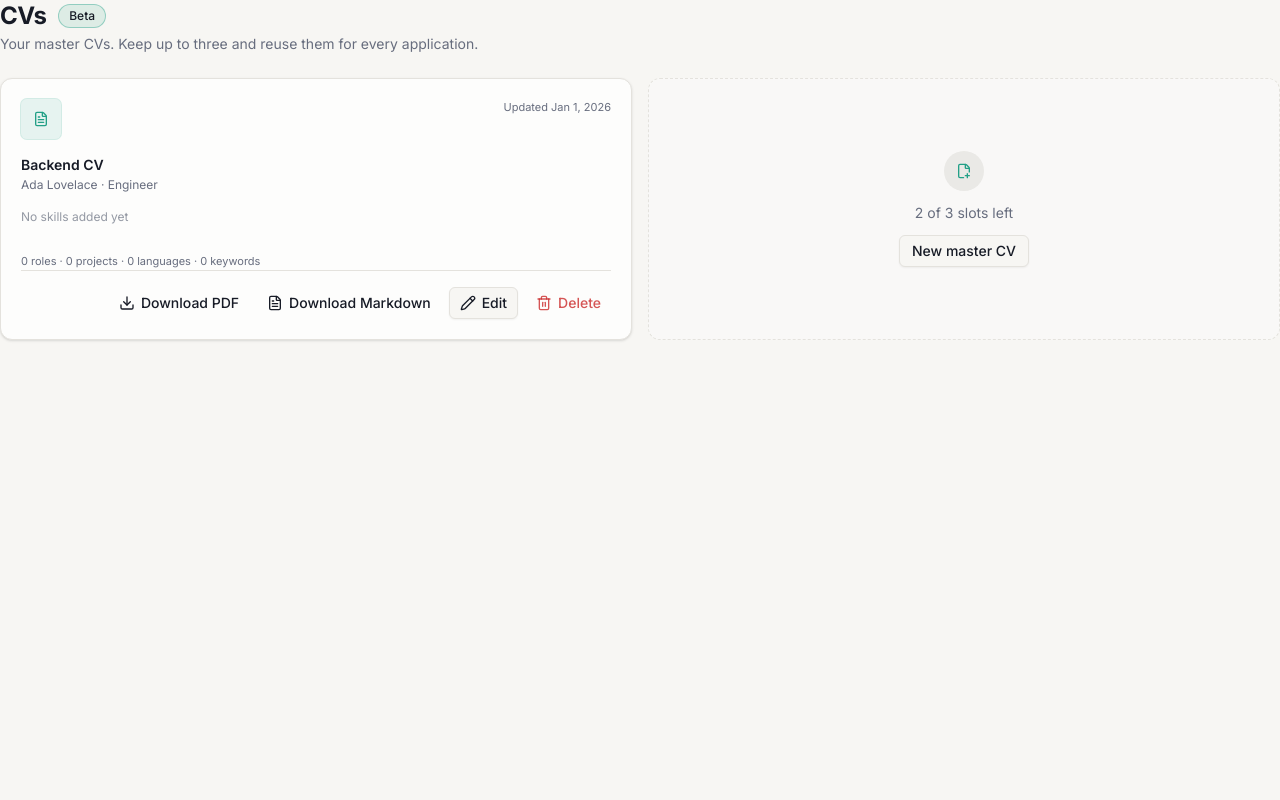
CvsPage › deletes a CV once the user confirms
Later steps or results of the test are not shown.
Click the button with aria-label "Delete Backend CV": (569, 302) x1=526 y1=286 x2=611 y2=318
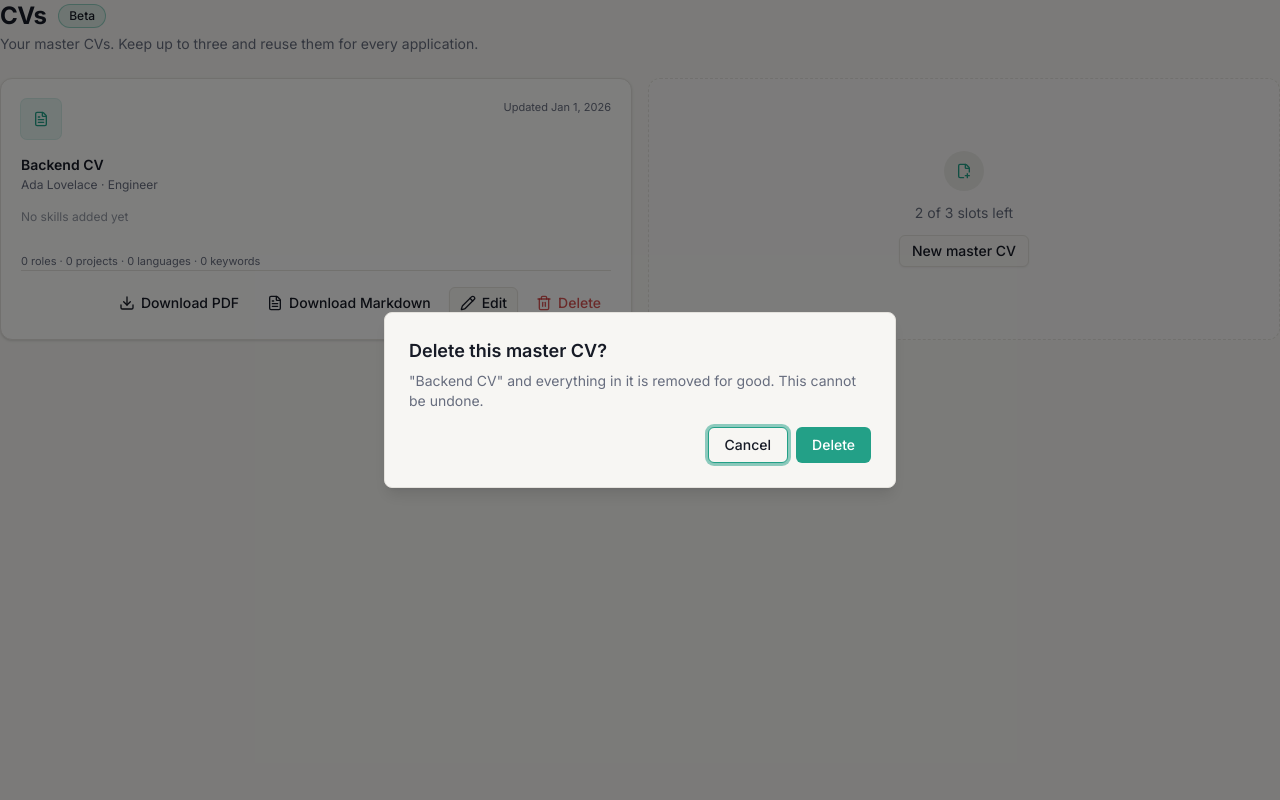
Check: the heading "Delete this master CV?" is shown, box x1=409 y1=337 x2=607 y2=365
